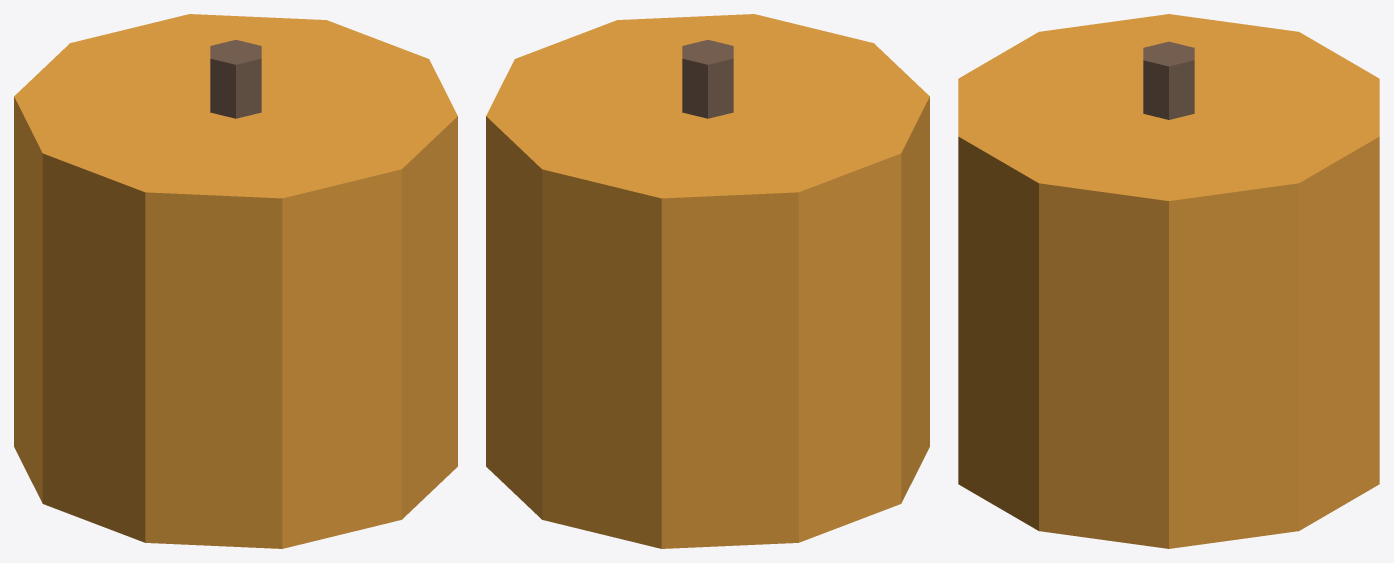
The model's file is haunted_pumpkin_plain.glb.
3 views of the same model, side by side, from view 1: azimuth 30°, elevation 25°; view 2: azimuth 150°, elevation 25°; view 3: azimuth 270°, elevation 25° (orthographic).
Parts seen in each view (by area): view 1: Haunted_Pumpkin_Plain; view 2: Haunted_Pumpkin_Plain; view 3: Haunted_Pumpkin_Plain.
Boxes of the visible parts, <box> form: Haunted_Pumpkin_Plain: <box>14,14,457,548</box>; Haunted_Pumpkin_Plain: <box>486,14,929,548</box>; Haunted_Pumpkin_Plain: <box>958,14,1379,548</box>.
Bounding box in the file's own units: 0.6 × 0.6 × 0.5706.
